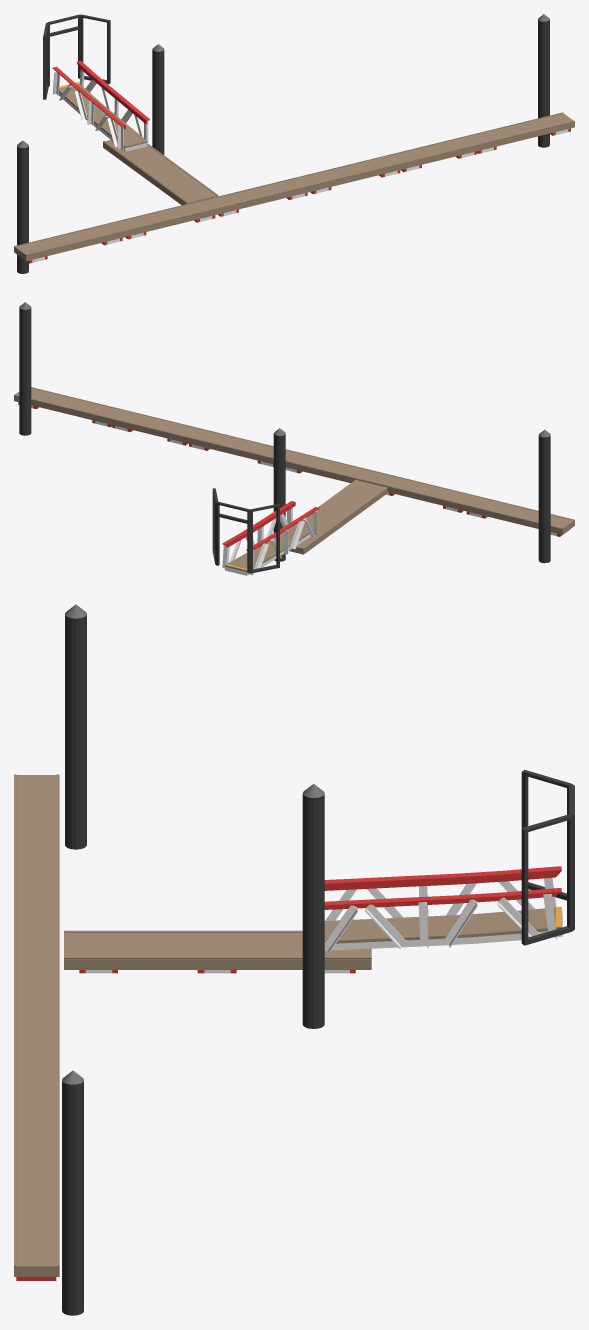
The model's file is pier3.glb.
The picture shows the model from 3 angles, top to bottom: view 1: azimuth 30°, elevation 25°; view 2: azimuth 150°, elevation 25°; view 3: azimuth 270°, elevation 25°; orthographic projection. The views are drawn at different scales.
Visible parts, largest first — view 1: Cube.067, Cube.001, Plane, Cylinder.007, Cylinder.005, Cylinder.002, Cube.085, Cube.087, Cube.086; view 2: Cube.067, Cube.001, Cylinder.005, Cylinder.007, Plane, Cylinder.002, Cube.085, Cube.087; view 3: Cube.067, Cube.001, Cylinder.002, Cylinder.007, Cylinder.005, Cube.085, Plane, Cube.086, Cube.087.
Boxes of the visible parts, x1,y1,x2,y2 form: Cube.067: (14, 112, 574, 261); Cube.001: (103, 140, 218, 204); Plane: (43, 14, 110, 99); Cylinder.007: (17, 140, 28, 273); Cylinder.005: (538, 14, 549, 147); Cylinder.002: (152, 44, 164, 154); Cube.085: (59, 82, 147, 151); Cube.087: (77, 61, 149, 123); Cube.086: (52, 66, 125, 129); Cube.067: (14, 387, 574, 534); Cube.001: (289, 479, 387, 554); Cylinder.005: (19, 302, 31, 435); Cylinder.007: (538, 429, 550, 563); Plane: (212, 488, 279, 573); Cylinder.002: (273, 428, 285, 561); Cube.085: (225, 523, 313, 575); Cube.087: (222, 501, 295, 547); Cube.067: (14, 774, 59, 1276); Cube.001: (64, 930, 371, 969); Cylinder.002: (302, 784, 324, 1028); Cylinder.007: (65, 604, 86, 849); Cylinder.005: (62, 1070, 83, 1315); Cube.085: (324, 907, 562, 950); Plane: (521, 769, 574, 945); Cube.086: (324, 866, 561, 890); Cube.087: (324, 888, 561, 909).
Bounding box in the file's own units: 50.87 × 11.61 × 24.54.
1 material, 1 textured.
